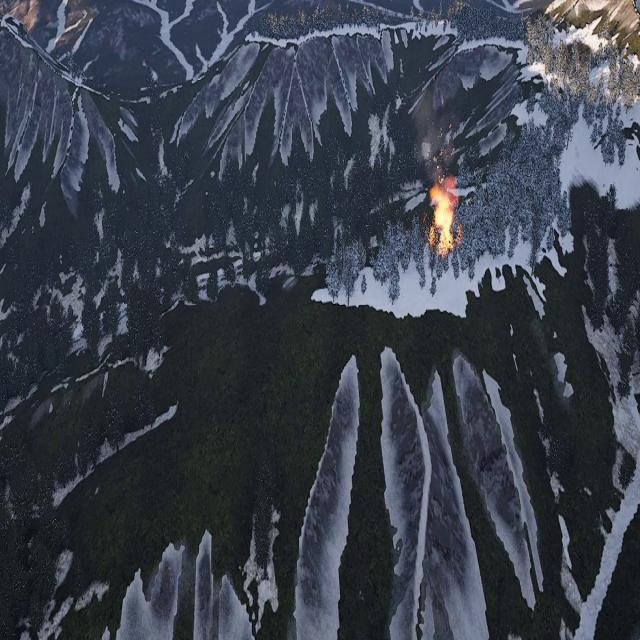fire: (430, 190, 461, 253)
smoke: (413, 86, 457, 192)
